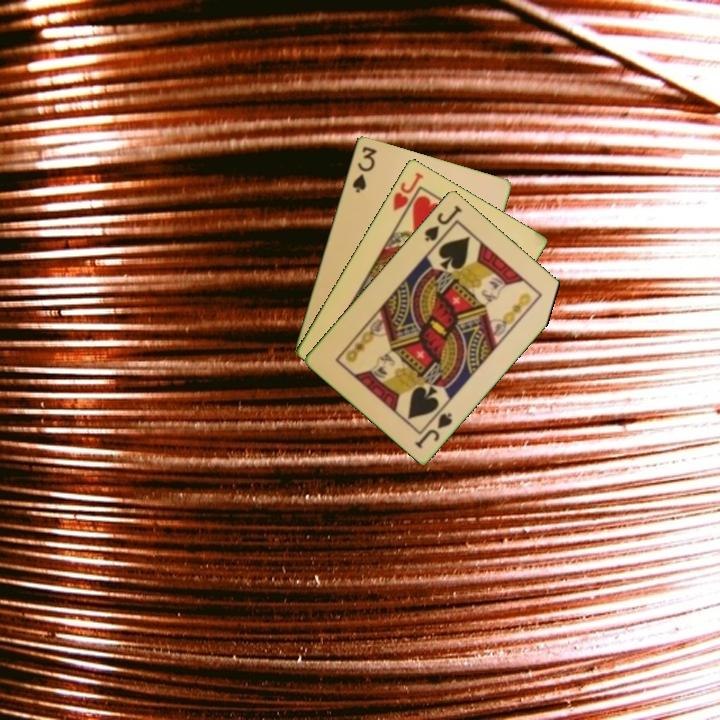3s: (348, 142, 379, 196)
Jh: (389, 168, 426, 214)
Js: (421, 201, 465, 244), (411, 409, 455, 451)
